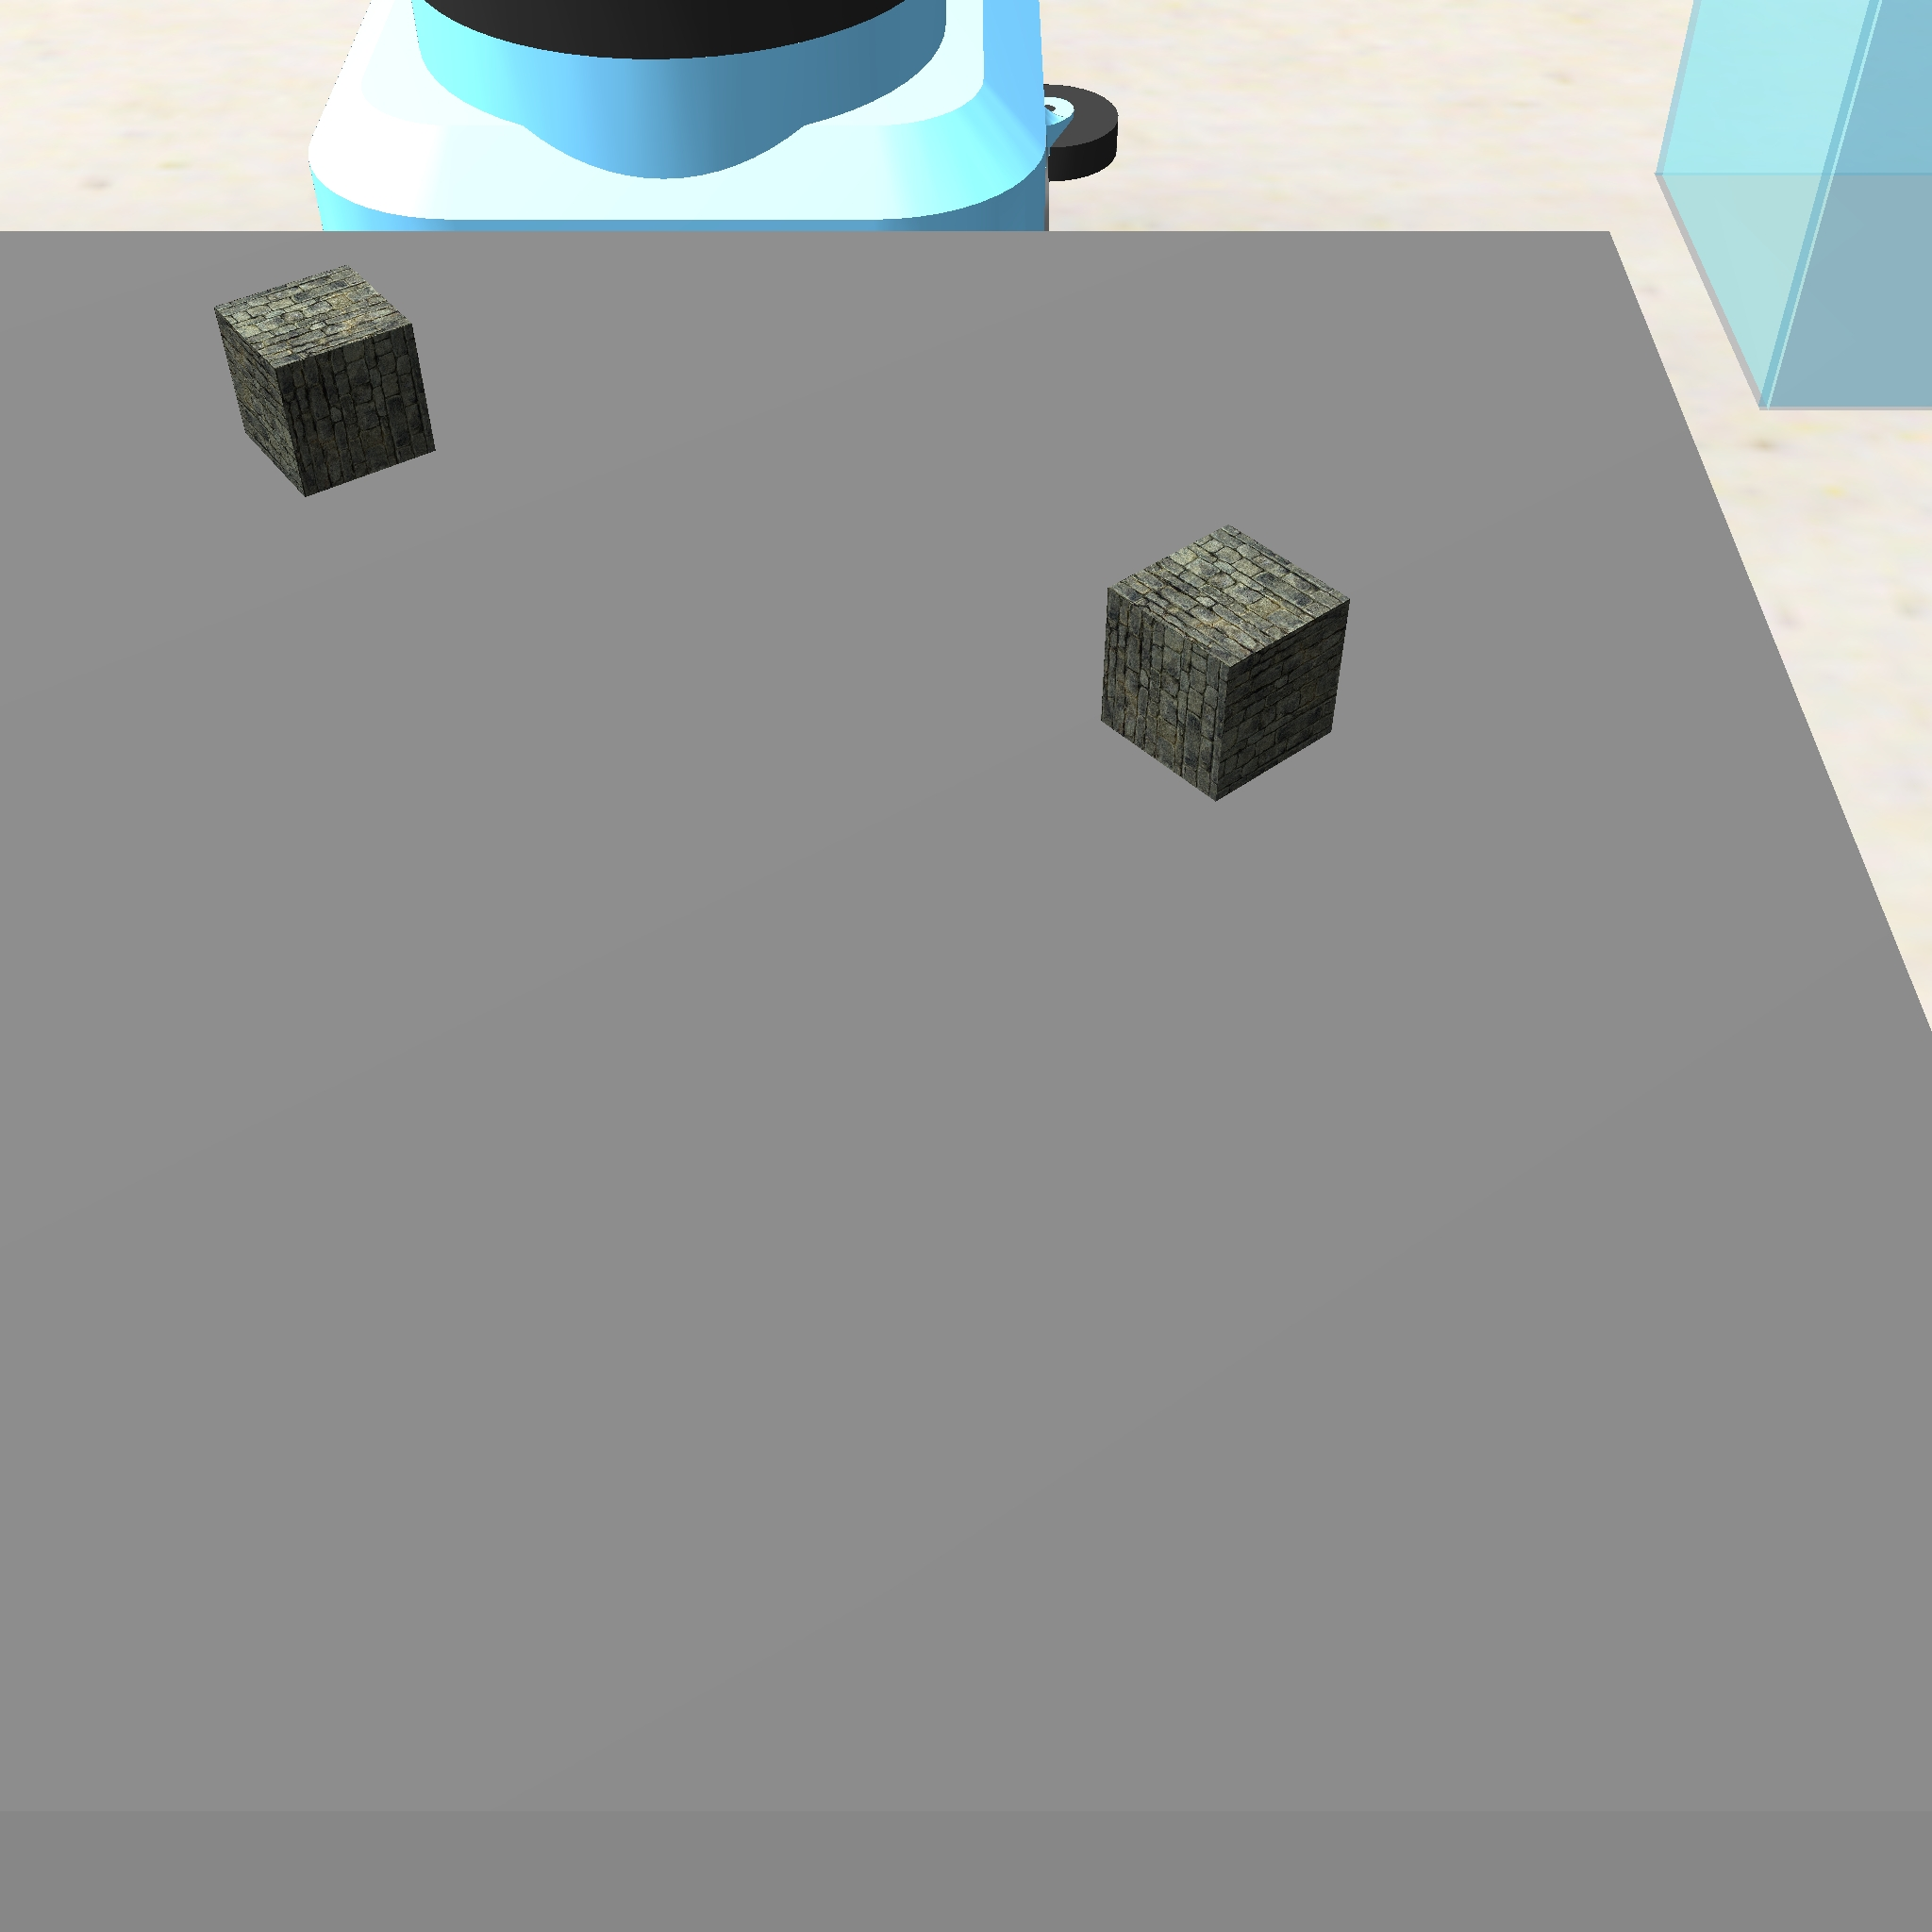cube: (1086, 517, 1355, 807), (205, 257, 448, 506)
